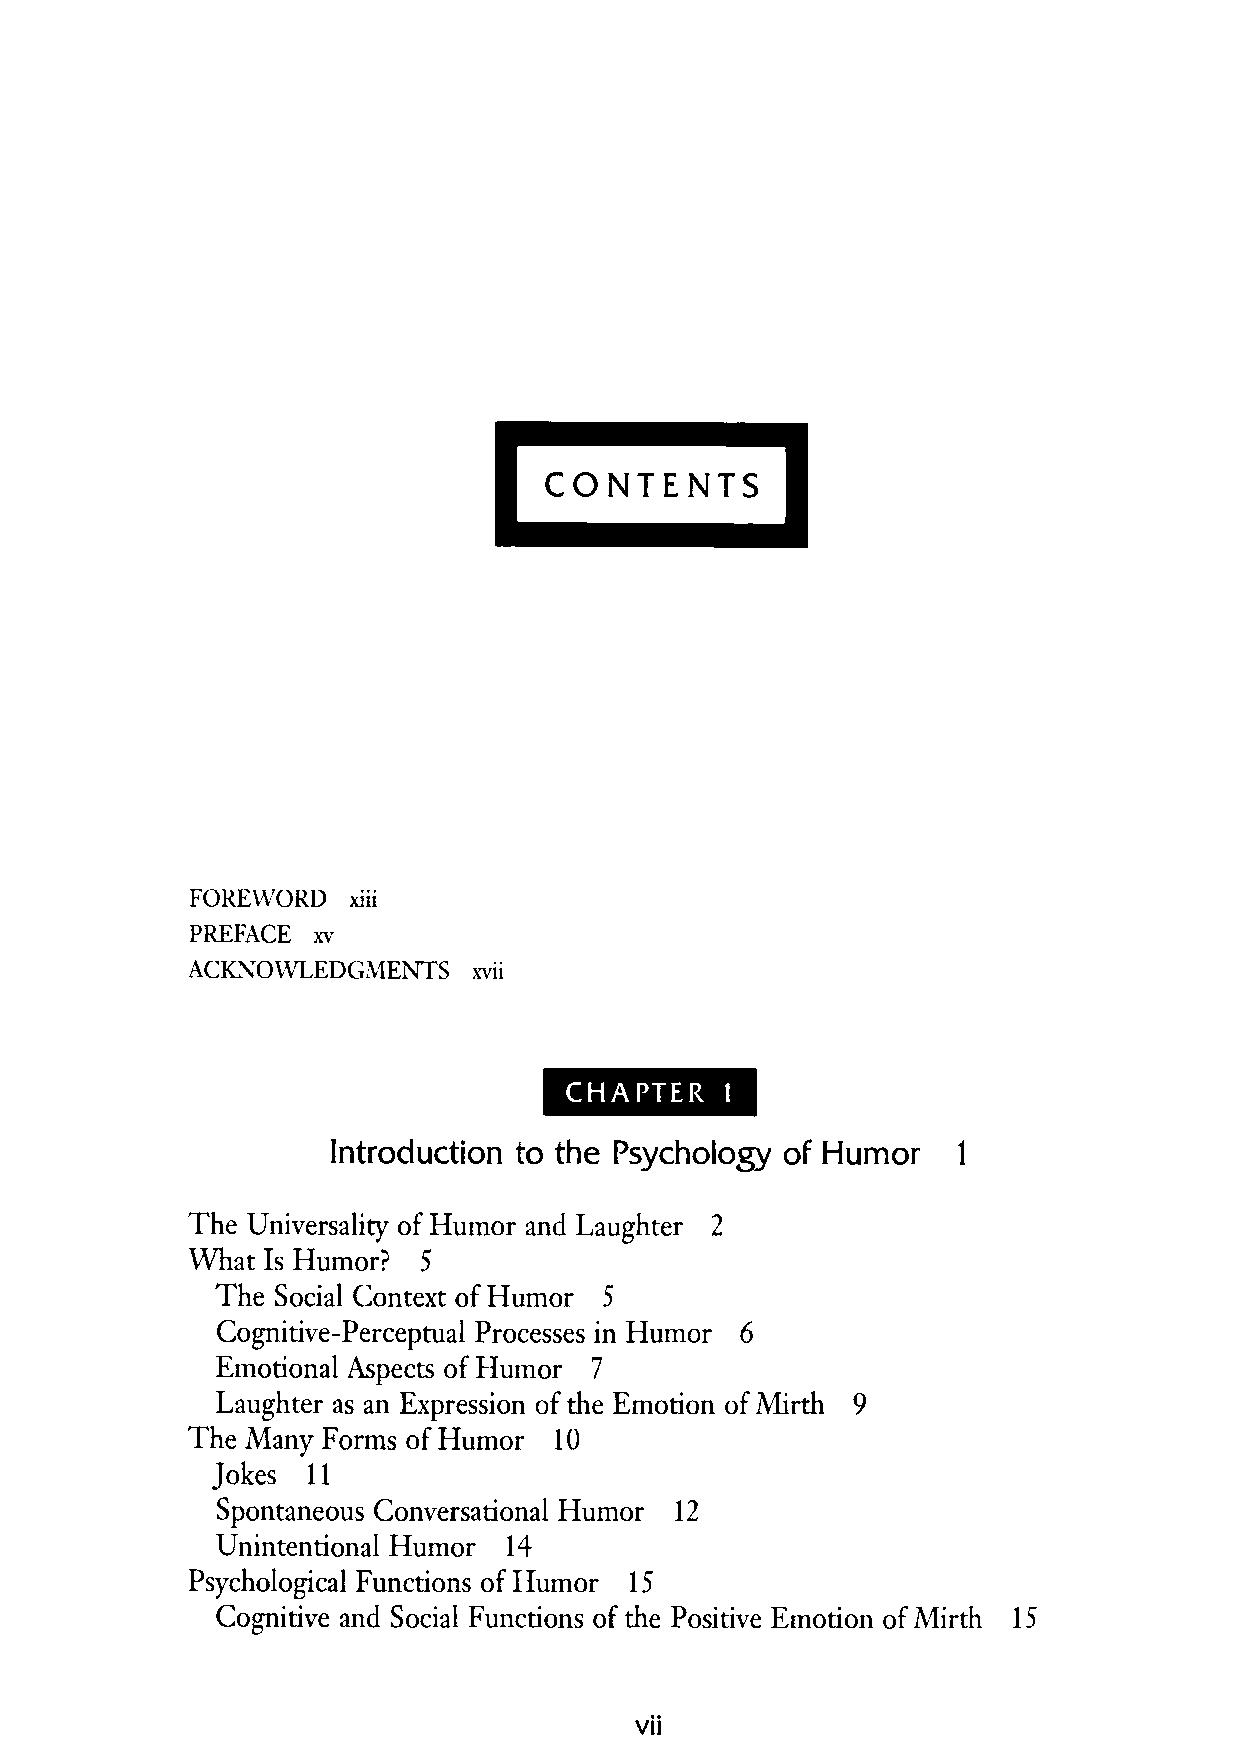TOC_chapter: (326, 1074, 926, 1173), (209, 1600, 981, 1635), (211, 1388, 829, 1418), (183, 1206, 680, 1241), (216, 1317, 711, 1351), (185, 1563, 595, 1597), (213, 1495, 648, 1526), (211, 1278, 577, 1311), (181, 1423, 527, 1456), (213, 1354, 562, 1380), (213, 1531, 479, 1561), (185, 957, 450, 984), (187, 1245, 400, 1276), (187, 886, 330, 911), (185, 921, 294, 943), (207, 1459, 276, 1492)
TOC_pagenumber: (1005, 1600, 1041, 1632), (467, 961, 507, 982), (552, 1427, 585, 1452), (625, 1570, 659, 1596), (670, 1496, 702, 1522), (503, 1533, 535, 1557), (705, 1210, 730, 1239), (349, 884, 378, 909), (307, 1461, 331, 1488), (734, 1317, 756, 1343), (417, 1245, 437, 1274), (849, 1388, 866, 1418), (311, 929, 338, 946), (953, 1138, 970, 1165), (586, 1355, 607, 1377), (600, 1282, 615, 1307)
chapter: (544, 468, 760, 501)
content_pagenumber: (629, 1708, 666, 1739)
